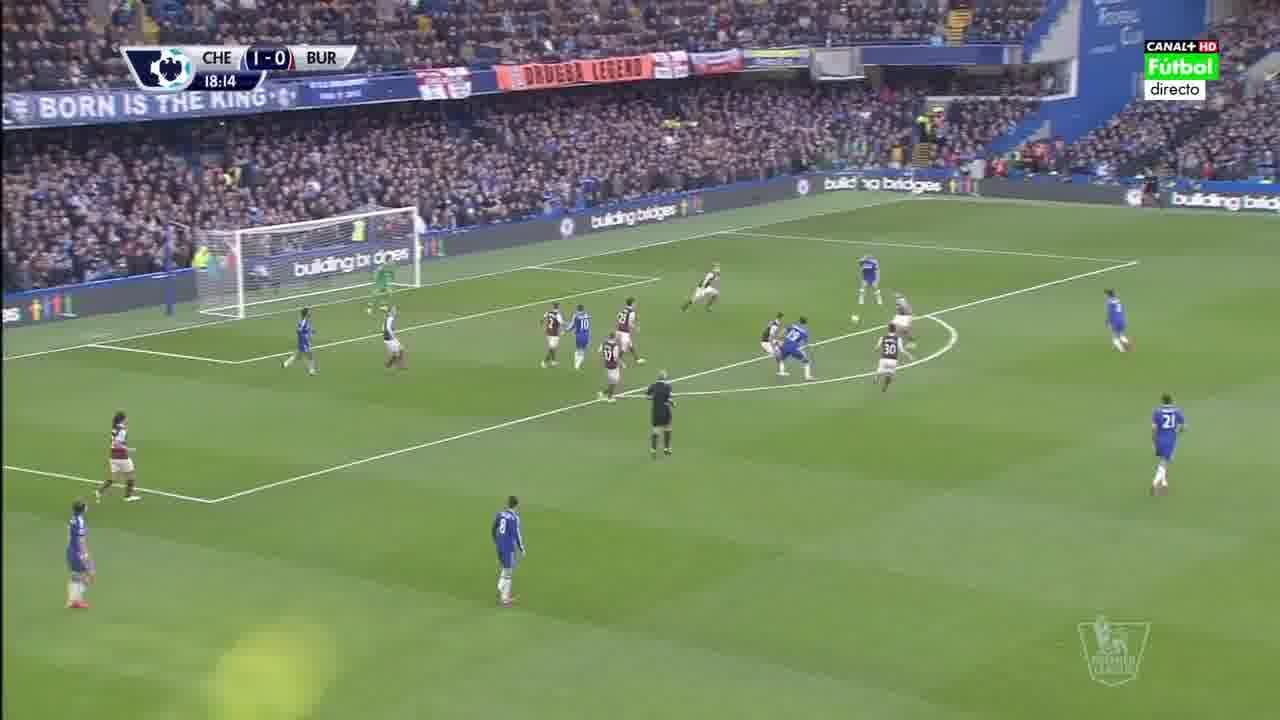football: (849, 313, 862, 326)
